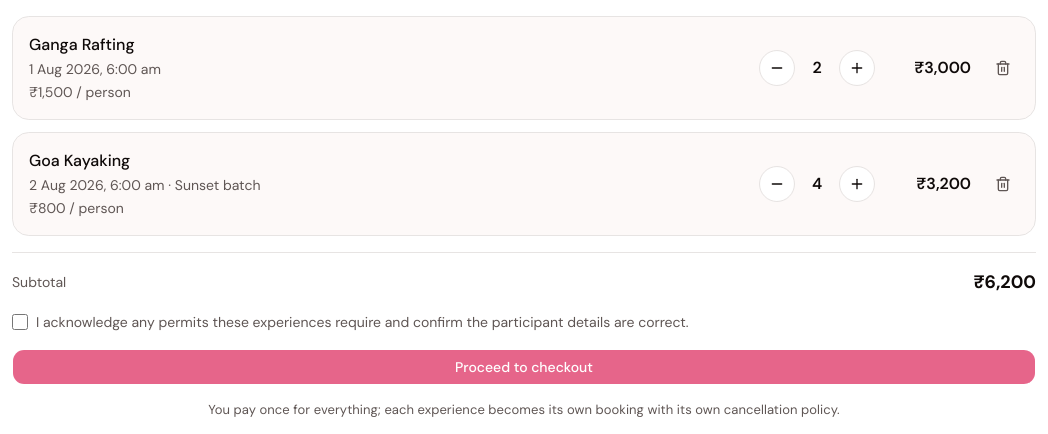
CartView › stepping participants updates the line total + subtotal optimistically and persists
The image size is (1048, 434).
// First line's + button (label "Participants +", two lines → two buttons).
Click the button named "Participants +" next to "3,000" at x=857, y=68, box 839,50 -> 875,86
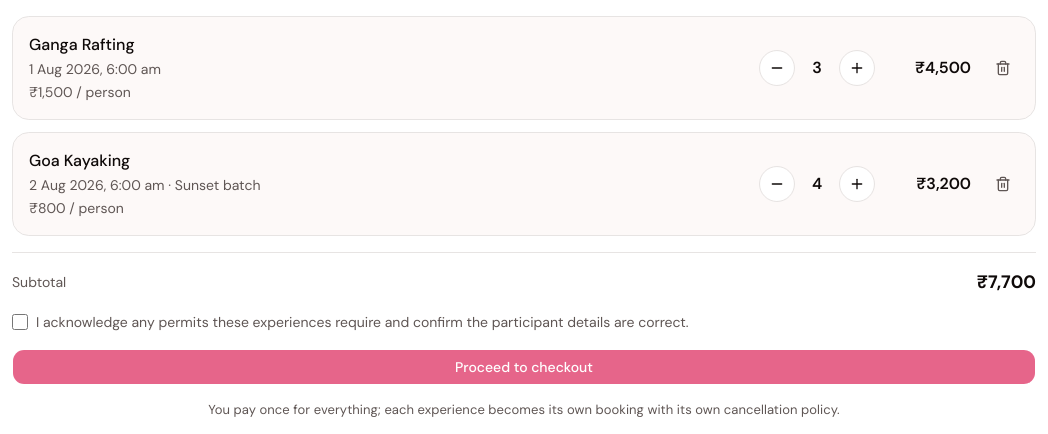
Now the text with test id "cart-subtotal" reads "₹7,700", box 977,269 -> 1036,296
